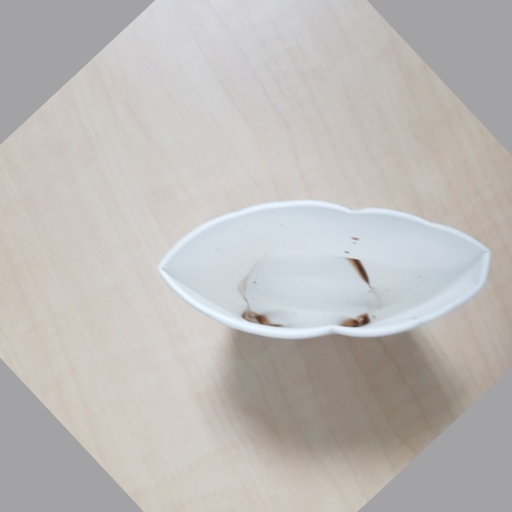Paper_1: (155, 196, 489, 339)
